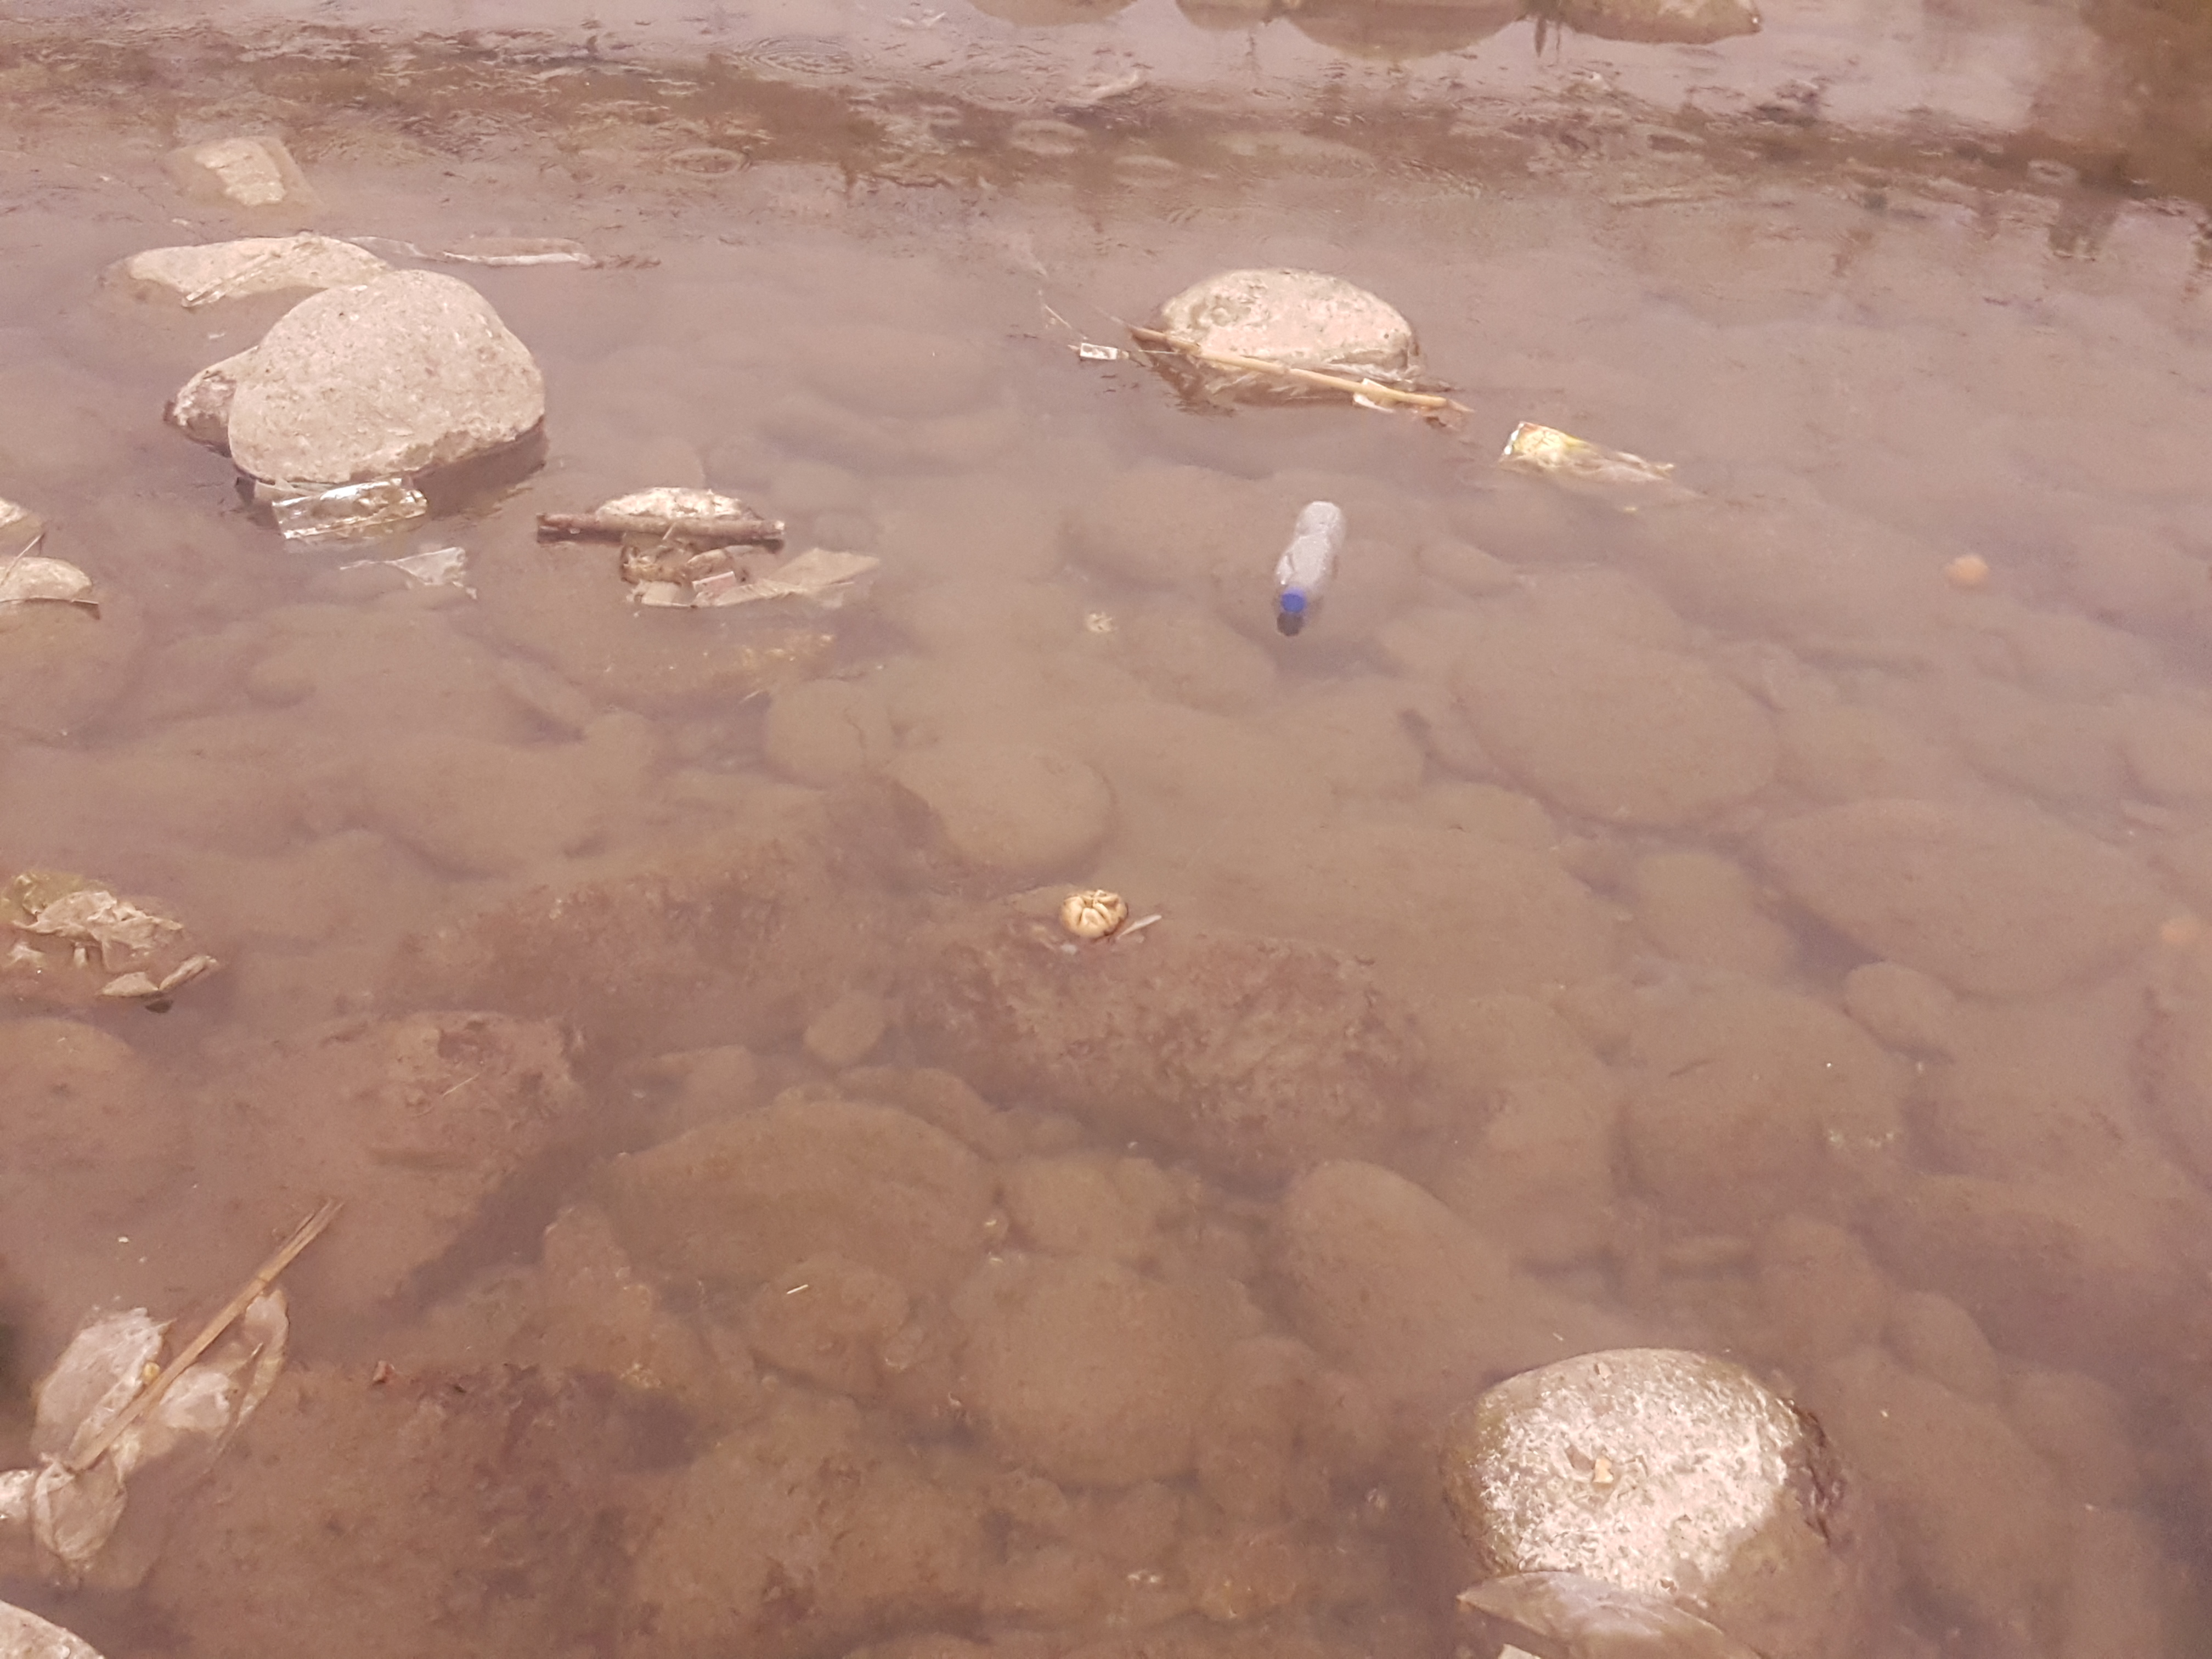Plastic Bottle: (1273, 500, 1346, 613)
